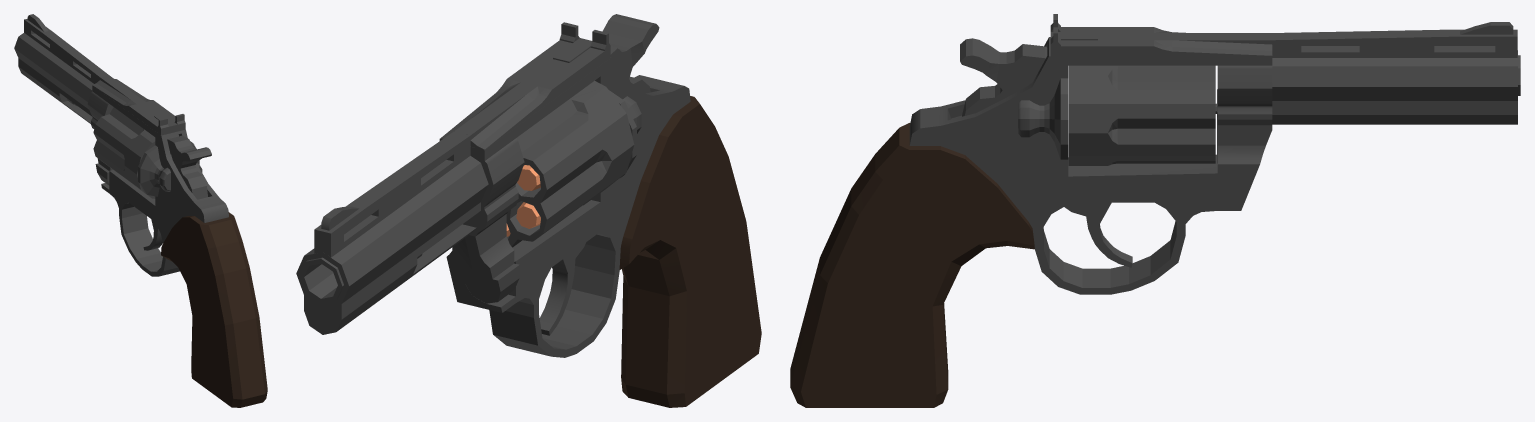
The picture shows the model from 3 angles, left to right: view 1: azimuth 30°, elevation 25°; view 2: azimuth 150°, elevation 25°; view 3: azimuth 270°, elevation 25°; orthographic projection. The views are drawn at different scales.
Visible parts, largest first — view 1: Grip, Frame, Magnum_Barrel, Revolving_Cylinder, Rear_Sights, Front_Sights, Hammer, Back_Plate_Right, Cylinder_Arm, Trigger; view 2: Grip, Frame, Magnum_Barrel, Revolving_Cylinder, Rear_Sights, Front_Sights, Cylinder_Arm, Hammer, Trigger, Back_Plate_Right, Bullet5, Bullet6; view 3: Grip, Frame, Magnum_Barrel, Revolving_Cylinder, Front_Sights, Rear_Sights, Hammer, Back_Plate_Left, Trigger.
Boxes of the visible parts, x1=… form: Grip: x1=161, y1=212, x2=267, y2=407; Frame: x1=87, y1=85, x2=228, y2=276; Magnum_Barrel: x1=14, y1=33, x2=93, y2=123; Revolving_Cylinder: x1=93, y1=107, x2=155, y2=198; Rear_Sights: x1=92, y1=75, x2=185, y2=135; Front_Sights: x1=24, y1=14, x2=108, y2=83; Hammer: x1=167, y1=135, x2=211, y2=199; Back_Plate_Right: x1=138, y1=145, x2=170, y2=196; Cylinder_Arm: x1=91, y1=118, x2=112, y2=185; Trigger: x1=143, y1=219, x2=162, y2=250; Grip: x1=619, y1=96, x2=761, y2=407; Frame: x1=439, y1=57, x2=690, y2=357; Magnum_Barrel: x1=296, y1=156, x2=488, y2=334; Revolving_Cylinder: x1=506, y1=80, x2=634, y2=247; Rear_Sights: x1=440, y1=22, x2=610, y2=149; Front_Sights: x1=314, y1=131, x2=470, y2=257; Cylinder_Arm: x1=463, y1=187, x2=519, y2=303; Hammer: x1=602, y1=14, x2=659, y2=93; Trigger: x1=539, y1=242, x2=585, y2=335; Back_Plate_Right: x1=609, y1=90, x2=641, y2=177; Bullet5: x1=516, y1=202, x2=540, y2=228; Bullet6: x1=517, y1=165, x2=540, y2=190; Grip: x1=790, y1=123, x2=1034, y2=407; Frame: x1=909, y1=37, x2=1272, y2=294; Magnum_Barrel: x1=1272, y1=50, x2=1520, y2=124; Revolving_Cylinder: x1=1068, y1=65, x2=1215, y2=165; Front_Sights: x1=1272, y1=22, x2=1517, y2=57; Rear_Sights: x1=1050, y1=14, x2=1272, y2=56; Hammer: x1=960, y1=38, x2=1047, y2=116; Back_Plate_Left: x1=1018, y1=78, x2=1068, y2=159; Trigger: x1=1064, y1=202, x2=1132, y2=267.
Size of the model in its own units: 0.0456 by 0.1627 by 0.2906.
Materials: 2 (2 with a texture image).
